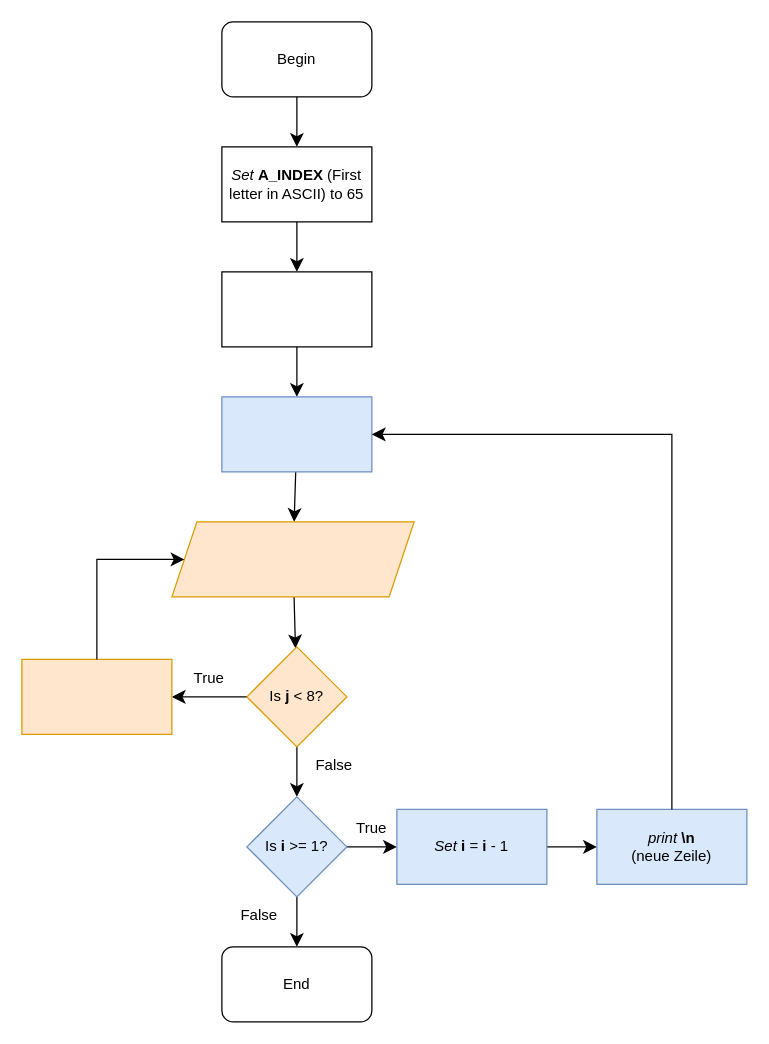
The diagram is 769 pixels wide and 1044 high, and some of its shapes have lost their labels. Here are the shapes that lost their labels. From the top down, the centre of each, then its label:
At point 296,309: "Set i = 8".
At point 296,434: "Set j = 0".
At point 292,559: "Print A_INDEX + j (converted into ASCII Char) and i".
At point 96,696: "Set j = j + 1".
